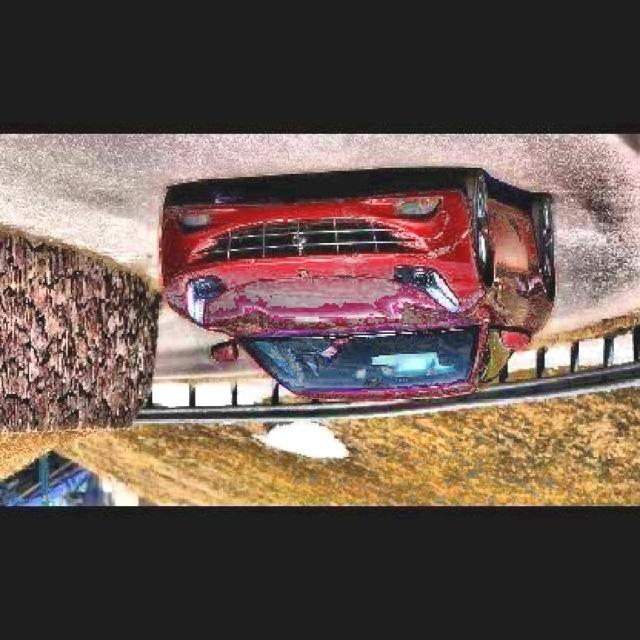maroon: (159, 178, 555, 402)
